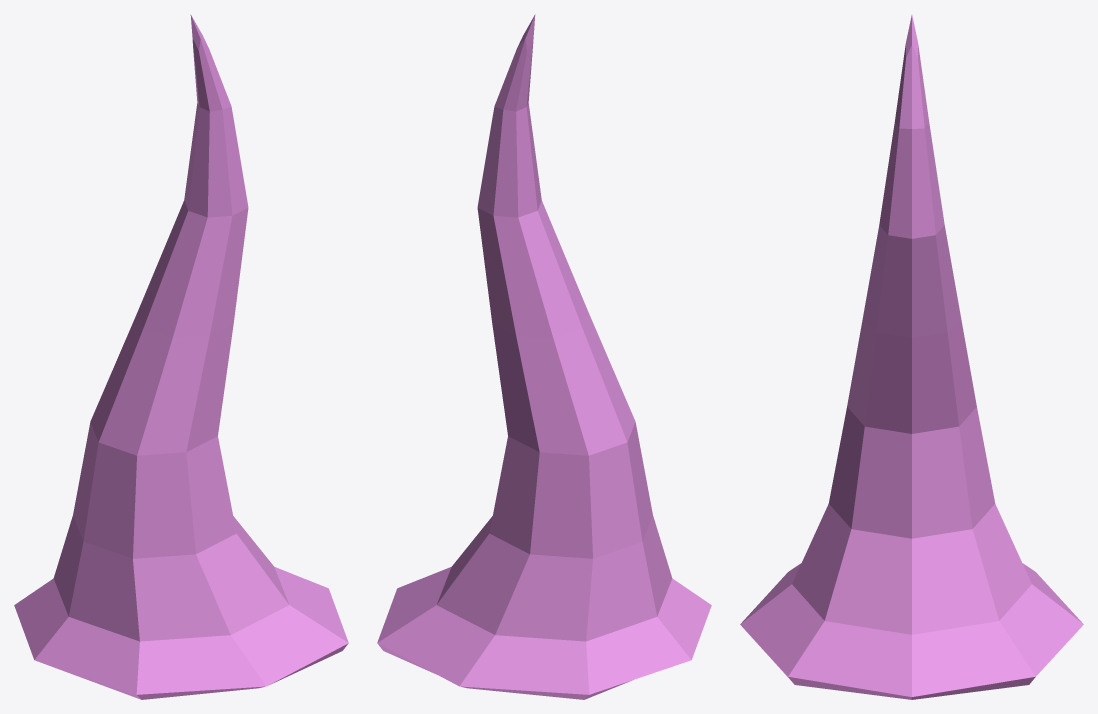
The model's file is Spine 05.fbx.
The picture shows the model from 3 angles, left to right: view 1: azimuth 30°, elevation 25°; view 2: azimuth 150°, elevation 25°; view 3: azimuth 270°, elevation 25°; orthographic projection.
Parts seen in each view (by area): view 1: Spine 05; view 2: Spine 05; view 3: Spine 05.
Boxes of the visible parts, bbox=[...] form: Spine 05: bbox=[14, 14, 348, 699]; Spine 05: bbox=[377, 14, 711, 699]; Spine 05: bbox=[740, 15, 1083, 699].
Bounding box in the file's own units: 28.89 × 58.23 × 28.89.
